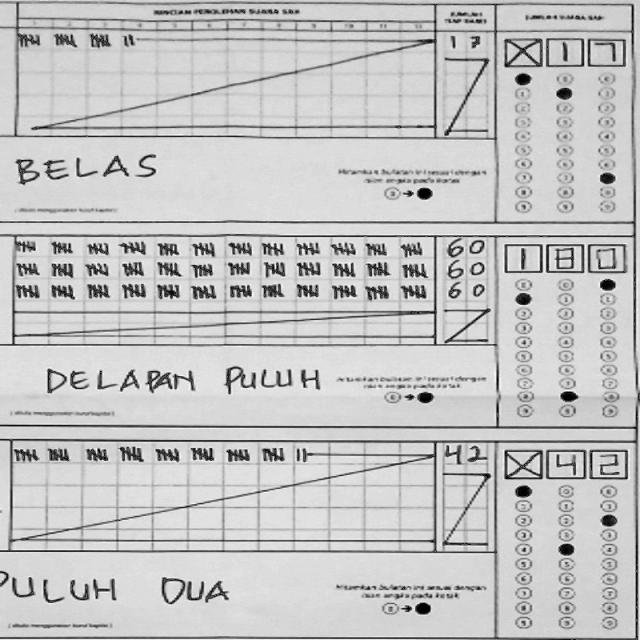Suara: (499, 238, 631, 277), (498, 33, 630, 71), (499, 444, 631, 482)
